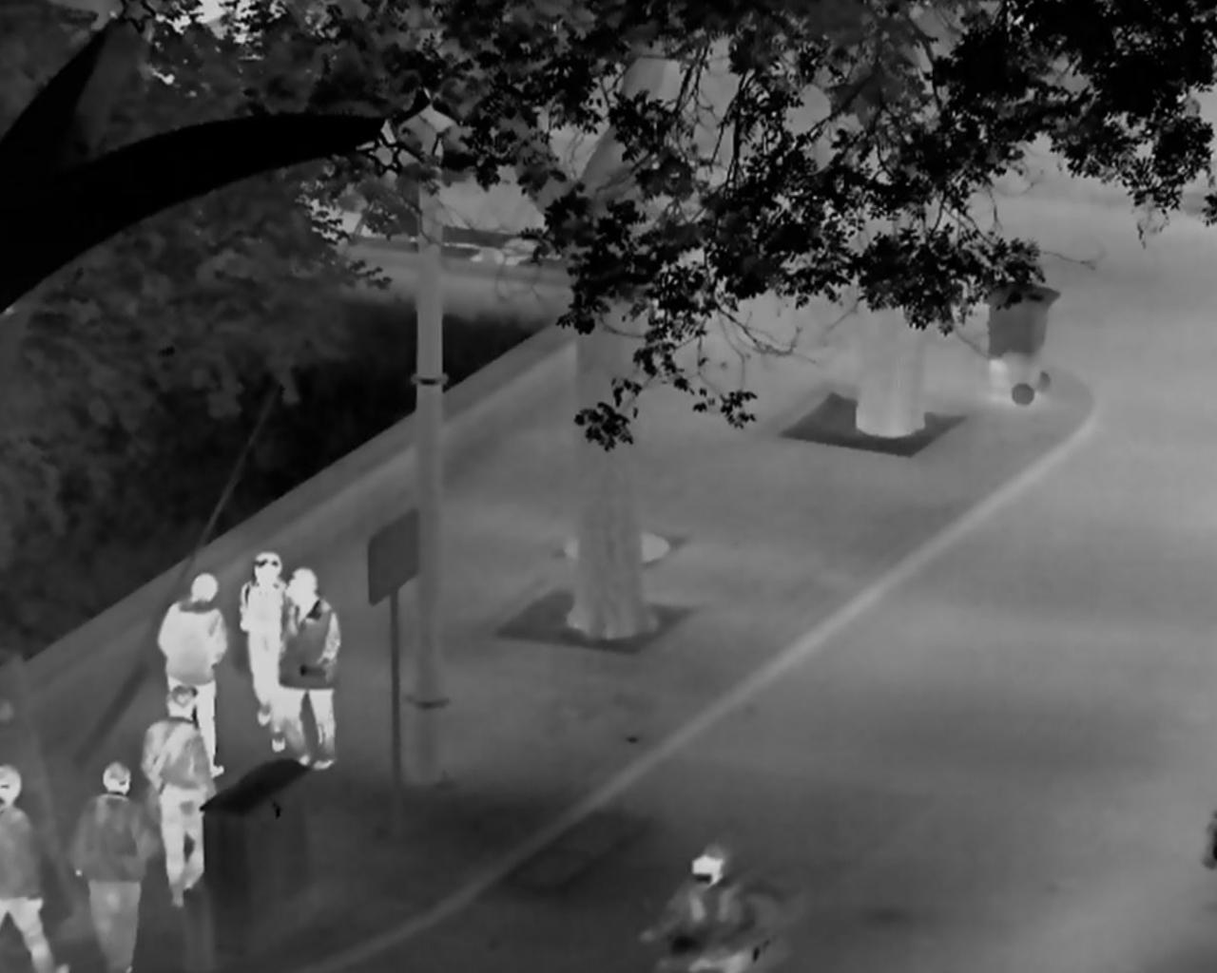person: (66, 760, 164, 973), (139, 684, 218, 911), (153, 570, 230, 778), (636, 843, 758, 973), (280, 566, 342, 773), (234, 549, 289, 752)
